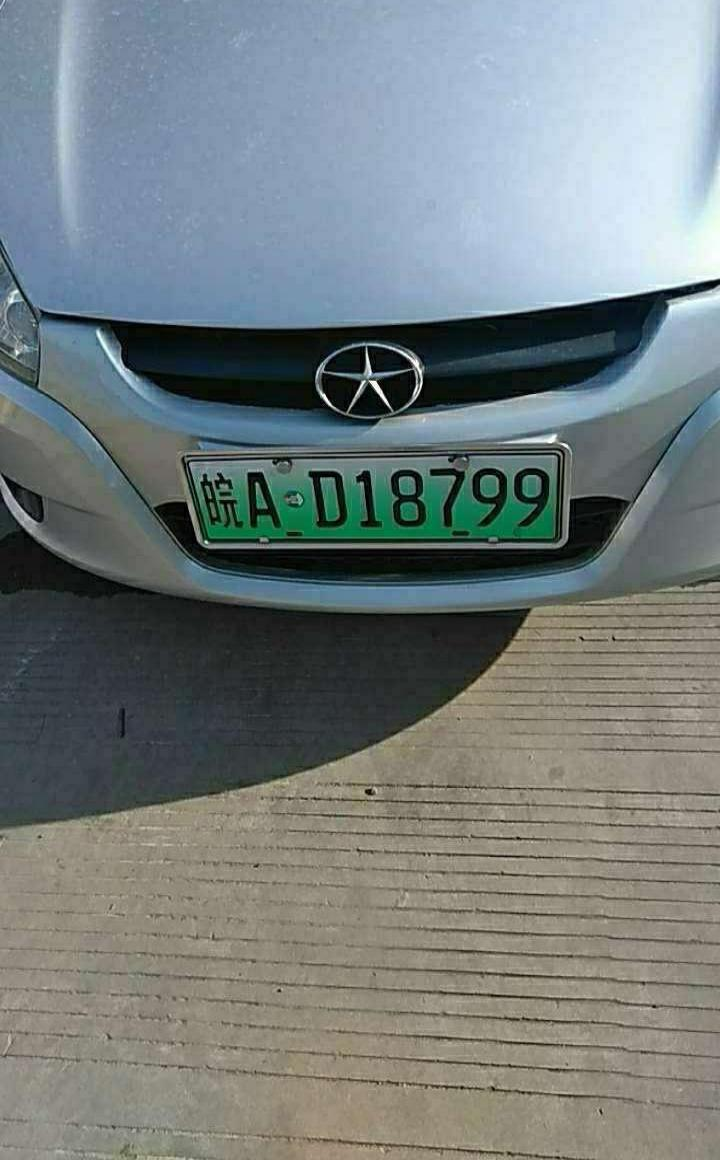car_id: (187, 448, 561, 543)
